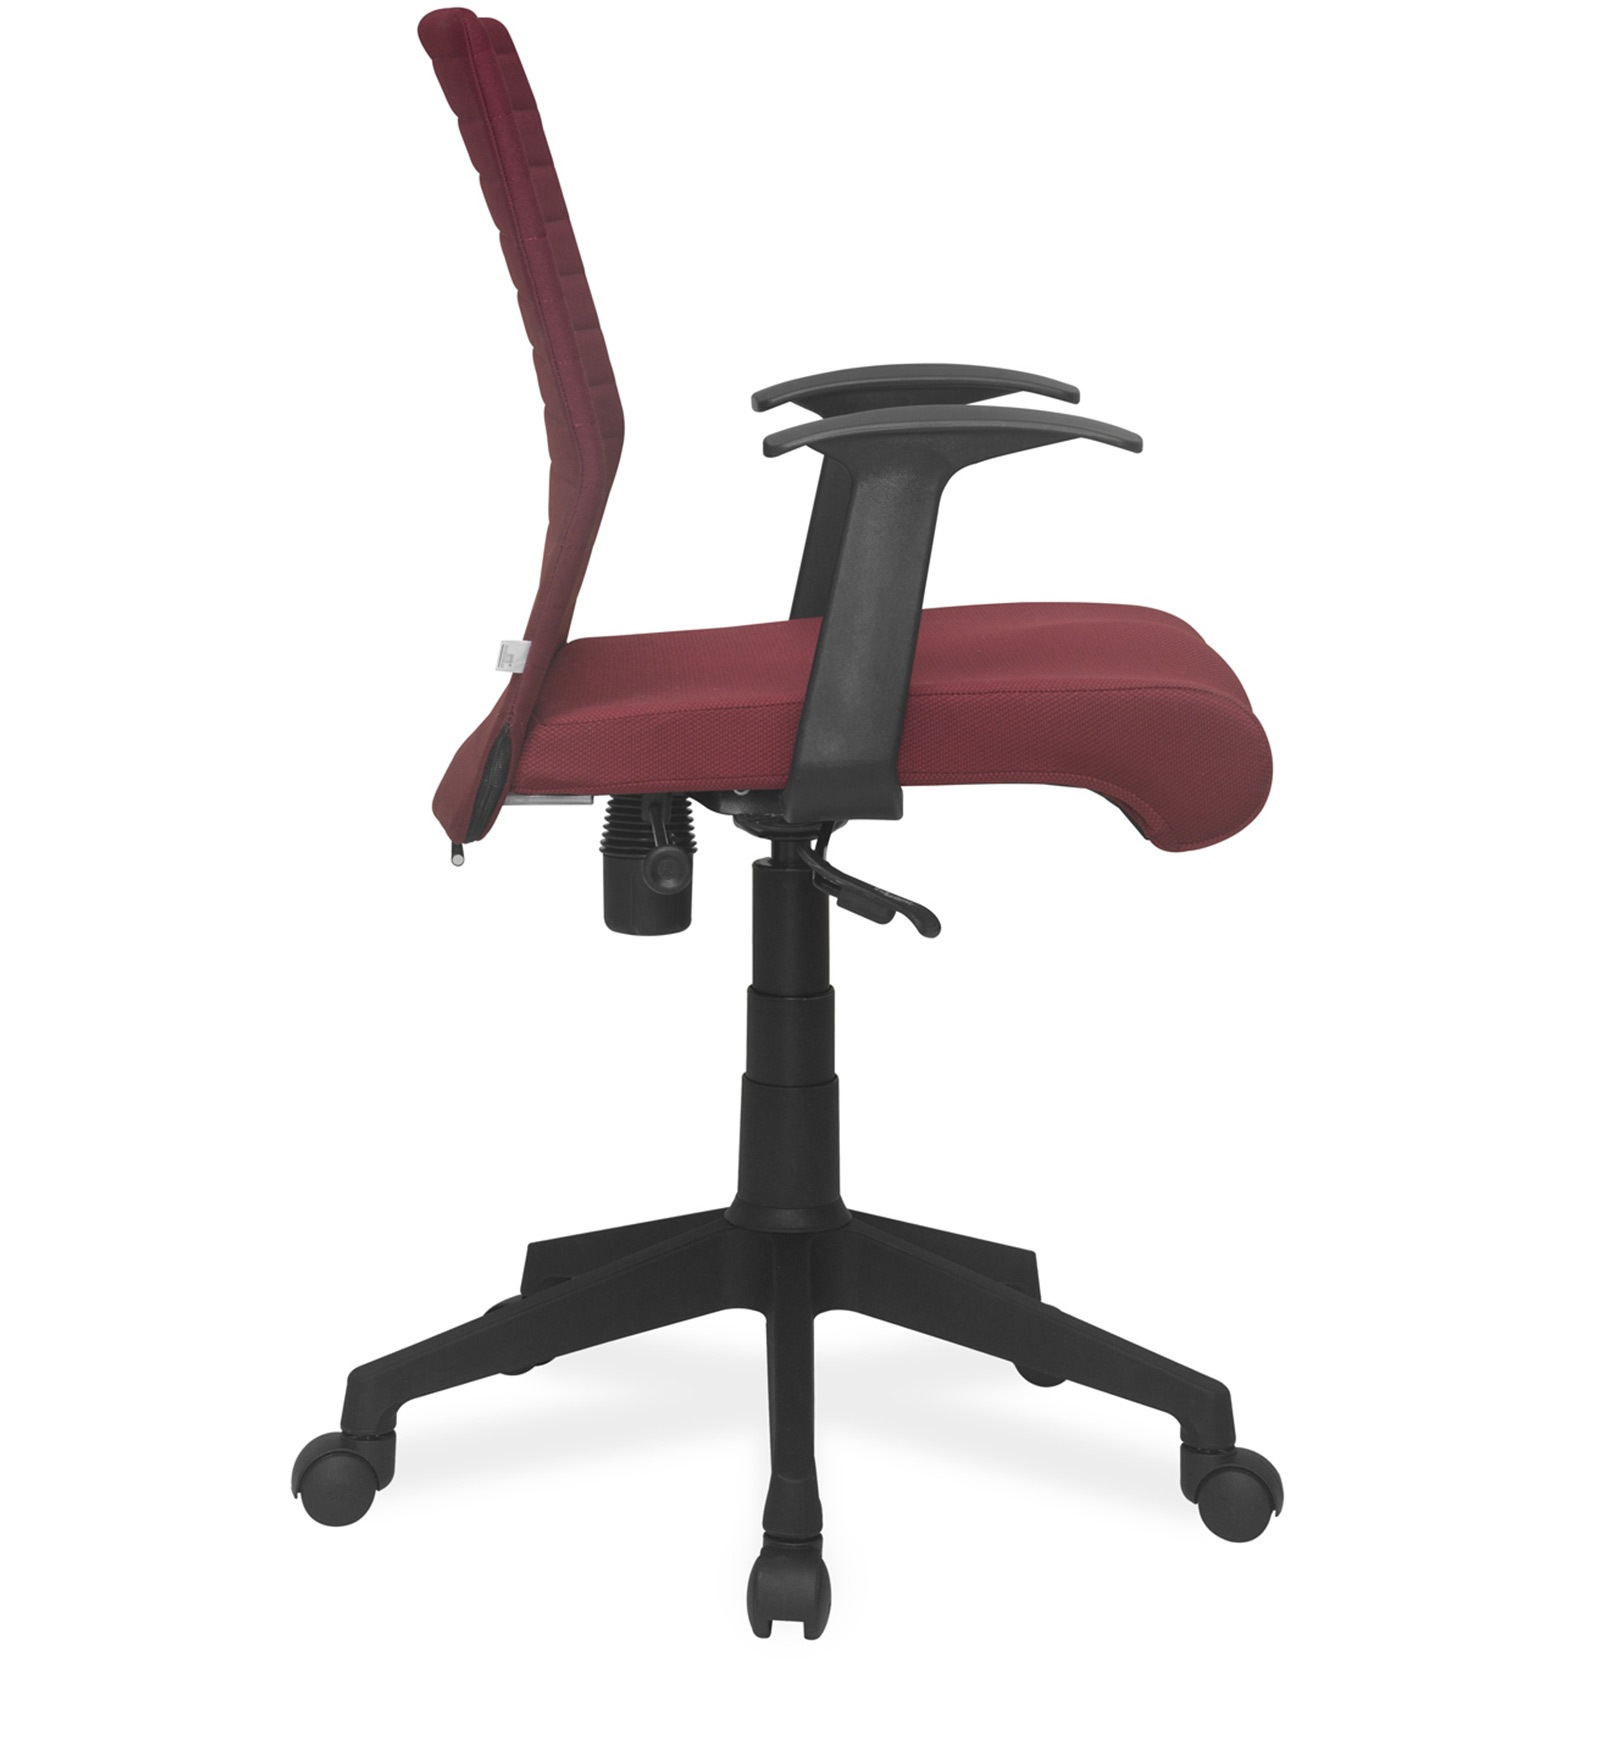Thames Low Back Ergonomic Chair in Maroon Colour by Nilkamal: (267, 2, 1346, 1748)
